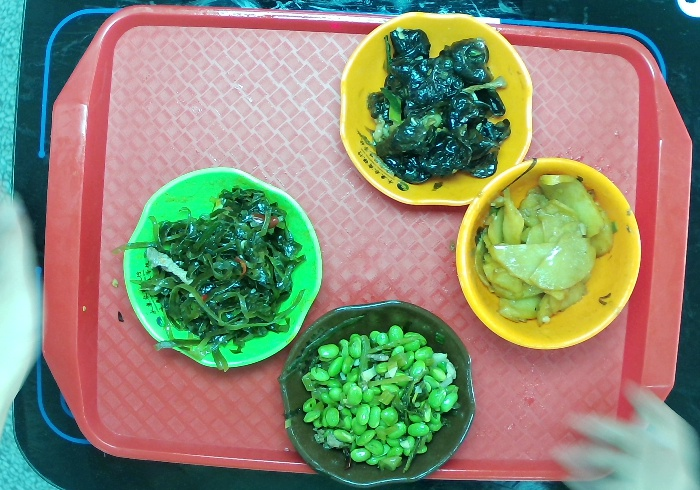YKMZ-Ju_Se_Ao_Bian_Wan: (334, 9, 537, 211)
YKMZ-Ju_Se_Yuan_Wan: (451, 153, 646, 353)
YKMZ-Ka_Fei_Ao_Bian_Wan: (274, 295, 478, 490)
YKMZ-Lv_Se_Ao_Bian_Wan: (120, 162, 325, 376)
